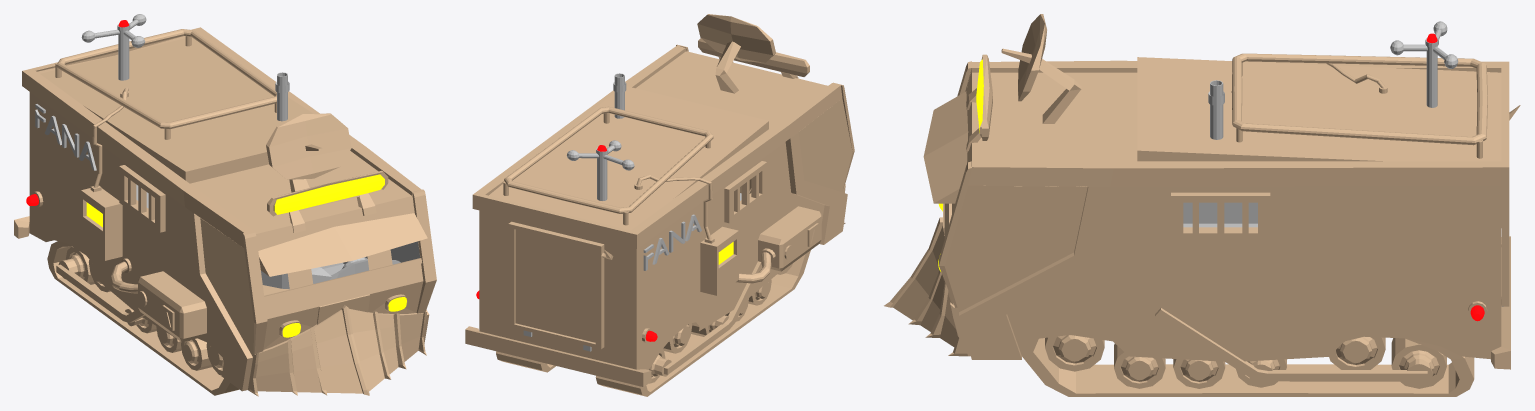
File: FANACRUISER_V4.fbx
3 renders of one model, left to right at view 1: azimuth 30°, elevation 25°; view 2: azimuth 150°, elevation 25°; view 3: azimuth 270°, elevation 25°, orthographic. The views are drawn at different scales.
Parts seen in each view (by area): view 1: ExteriorBox, BoxNStuff, Wheels, InteriorBox, Anemometer, FanaText, Exhaust; view 2: ExteriorBox, Door, Wheels, BoxNStuff, Anemometer, FanaText, Exhaust; view 3: ExteriorBox, Wheels, Anemometer, InteriorBox, Door, Exhaust.
Part boxes in pixels (left/top/right/bottom): ExteriorBox: left=14, top=27, right=436, bottom=396; BoxNStuff: left=81, top=87, right=206, bottom=341; Wheels: left=47, top=241, right=239, bottom=395; InteriorBox: left=136, top=184, right=420, bottom=295; Anemometer: left=81, top=14, right=146, bottom=80; FanaText: left=35, top=104, right=96, bottom=170; Exhaust: left=275, top=72, right=289, bottom=121; ExteriorBox: left=465, top=14, right=854, bottom=386; Door: left=508, top=221, right=613, bottom=349; Wheels: left=496, top=250, right=810, bottom=396; BoxNStuff: left=634, top=175, right=821, bottom=295; Anemometer: left=567, top=140, right=634, bottom=200; FanaText: left=643, top=214, right=701, bottom=270; Exhaust: left=613, top=73, right=626, bottom=118; ExteriorBox: left=884, top=14, right=1510, bottom=369; Wheels: left=1022, top=308, right=1474, bottom=396; Anemometer: left=1390, top=21, right=1458, bottom=107; InteriorBox: left=1183, top=202, right=1257, bottom=227; Door: left=1501, top=105, right=1520, bottom=306; Exhaust: left=1208, top=80, right=1224, bottom=139.
Size of the model in its own units: 521 by 632 by 1116.
